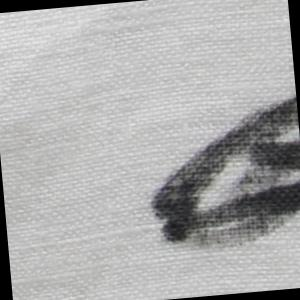Stain: (136, 88, 300, 265)
